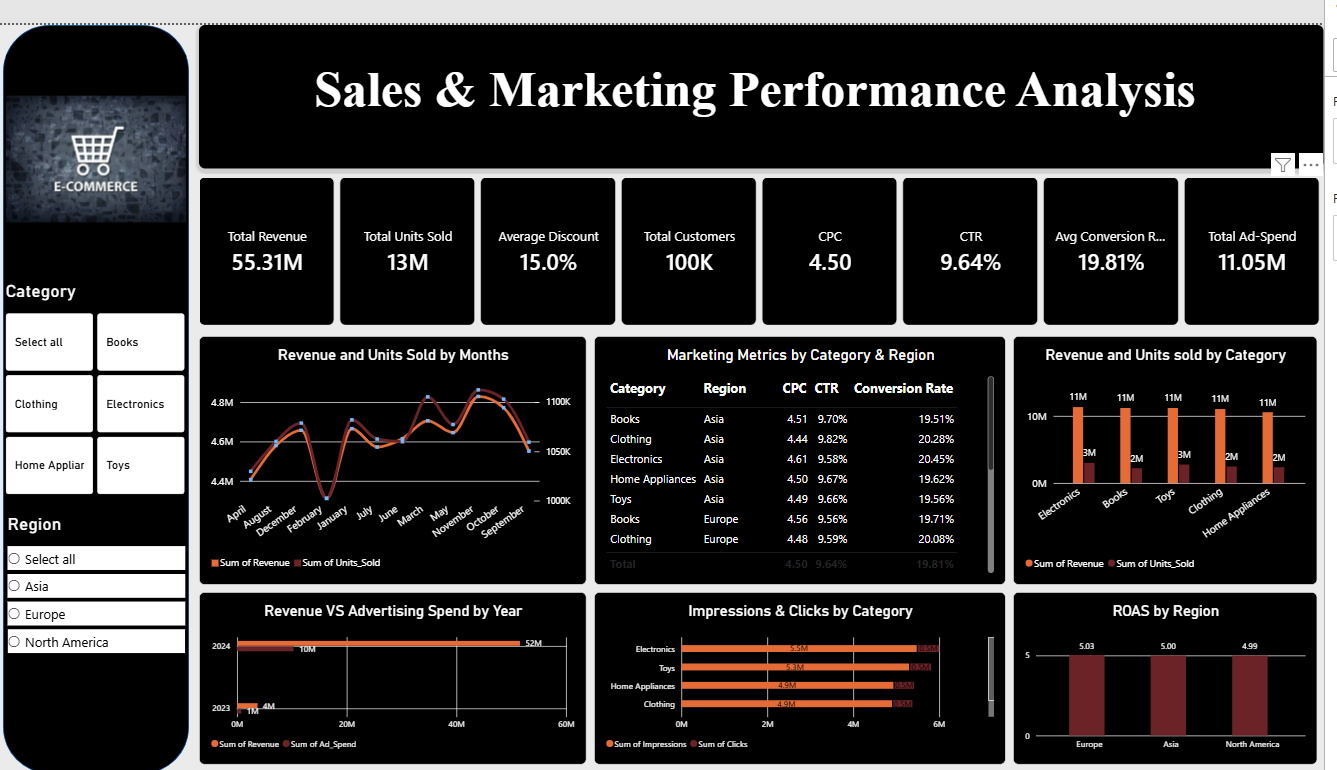

The dashboard page shown, as its layout file describes it:
{"tool":"powerbi","page":{"name":"Page 1","canvas":[1920,1080],"ordinal":0},"visuals":[{"type":"textbox","box":[297.6,0,1622.4,207.2],"z":0},{"type":"shape","box":[14.6,0,268.4,1079.6],"z":1000},{"type":"actionButton","box":[19,43.8,259.7,288.9],"z":2000},{"type":"advancedSlicerVisual","fields":{"Values":["Sales_Marketing_Dataset.Category"]},"box":[17.3,367.8,261.1,311.6],"z":3000},{"type":"listSlicer","fields":{"Values":["Sales_Marketing_Dataset.Region"]},"box":[20.2,704,258.2,207.2],"z":4000},{"type":"cardVisual","fields":{"Data":["Sum(Sales_Marketing_Dataset.Revenue)","Sum(Sales_Marketing_Dataset.Units_Sold)","Sales_Marketing_Dataset.Avg_Discount_Applied","CountNonNull(Sales_Marketing_Dataset.Customer_ID)","DAX Measures.CPC","DAX Measures.CTR","DAX Measures.Avg_Conversion_Rate","Sum(Sales_Marketing_Dataset.Ad_Spend)"]},"box":[297.8,219.3,1622.2,214.8],"z":5000},{"type":"lineChart","title":"Revenue and Units Sold by Months","fields":{"Category":["Sales_Marketing_Dataset.Transaction_Months"],"Y":["Sum(Sales_Marketing_Dataset.Revenue)"],"Y2":["Sum(Sales_Marketing_Dataset.Units_Sold)"]},"box":[297.8,448.9,558.5,358.5],"z":6000},{"type":"clusteredBarChart","title":"Revenue VS Advertising Spend by Year","fields":{"Category":["Sales_Marketing_Dataset.Transaction_Year"],"Y":["Sum(Sales_Marketing_Dataset.Revenue)","Sum(Sales_Marketing_Dataset.Ad_Spend)"]},"box":[297.8,817.8,558.5,248.9],"z":7000},{"type":"barChart","title":"Impressions & Clicks by Category","fields":{"Category":["Sales_Marketing_Dataset.Category"],"Y":["Sum(Sales_Marketing_Dataset.Impressions)","Sum(Sales_Marketing_Dataset.Clicks)"]},"box":[867,818,594,249],"z":9000},{"type":"clusteredColumnChart","title":" Revenue and Units sold by Category","fields":{"Category":["Sales_Marketing_Dataset.Category"],"Y":["Sum(Sales_Marketing_Dataset.Revenue)","Sum(Sales_Marketing_Dataset.Units_Sold)"]},"box":[1471.4,448.6,438.5,359.2],"z":10000},{"type":"clusteredColumnChart","title":"ROAS by Region","fields":{"Category":["Sales_Marketing_Dataset.Region"],"Y":["DAX Measures.ROAS"]},"box":[1471.4,817.9,439,249],"z":11000},{"type":"tableEx","title":"Marketing Metrics by Category & Region","fields":{"Values":["Sales_Marketing_Dataset.Category","Sales_Marketing_Dataset.Region","DAX Measures.CPC","DAX Measures.CTR","DAX Measures.Conversion_Rate"]},"box":[867,448.6,594.3,359.2],"z":11001}]}

Visuals, with their boxes in screenshot pixels (x1, y1, x2, y2), scaled from the page's 1920x1080 canvas onto the 1337x770 screenshot:
textbox: locate(207, 0, 1336, 148)
shape: locate(10, 0, 197, 769)
actionButton: locate(13, 31, 194, 237)
advancedSlicerVisual - Sales_Marketing_Dataset.Category: locate(12, 262, 194, 484)
listSlicer - Sales_Marketing_Dataset.Region: locate(14, 502, 194, 650)
cardVisual - Sum(Sales_Marketing_Dataset.Revenue) x Sum(Sales_Marketing_Dataset.Units_Sold): locate(207, 156, 1336, 309)
"Revenue and Units Sold by Months" lineChart: locate(207, 320, 596, 576)
"Revenue VS Advertising Spend by Year" clusteredBarChart: locate(207, 583, 596, 761)
"Impressions & Clicks by Category" barChart: locate(604, 583, 1017, 761)
" Revenue and Units sold by Category" clusteredColumnChart: locate(1025, 320, 1330, 576)
"ROAS by Region" clusteredColumnChart: locate(1025, 583, 1330, 761)
"Marketing Metrics by Category & Region" tableEx: locate(604, 320, 1018, 576)
